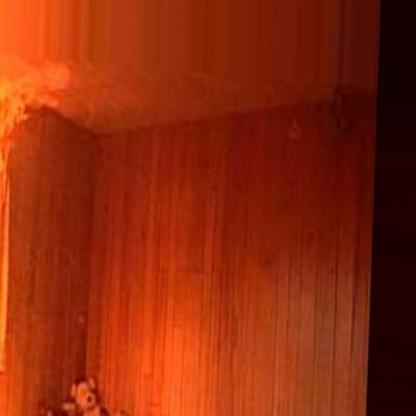fire: (1, 34, 61, 307)
